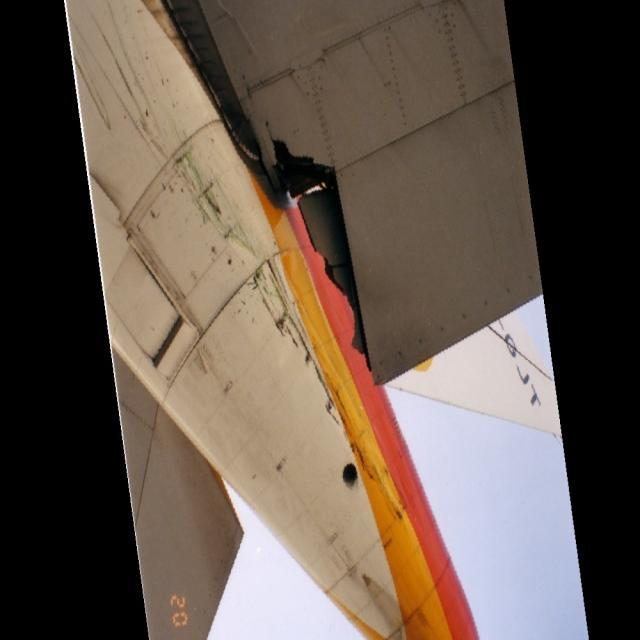crack: (262, 118, 372, 372)
